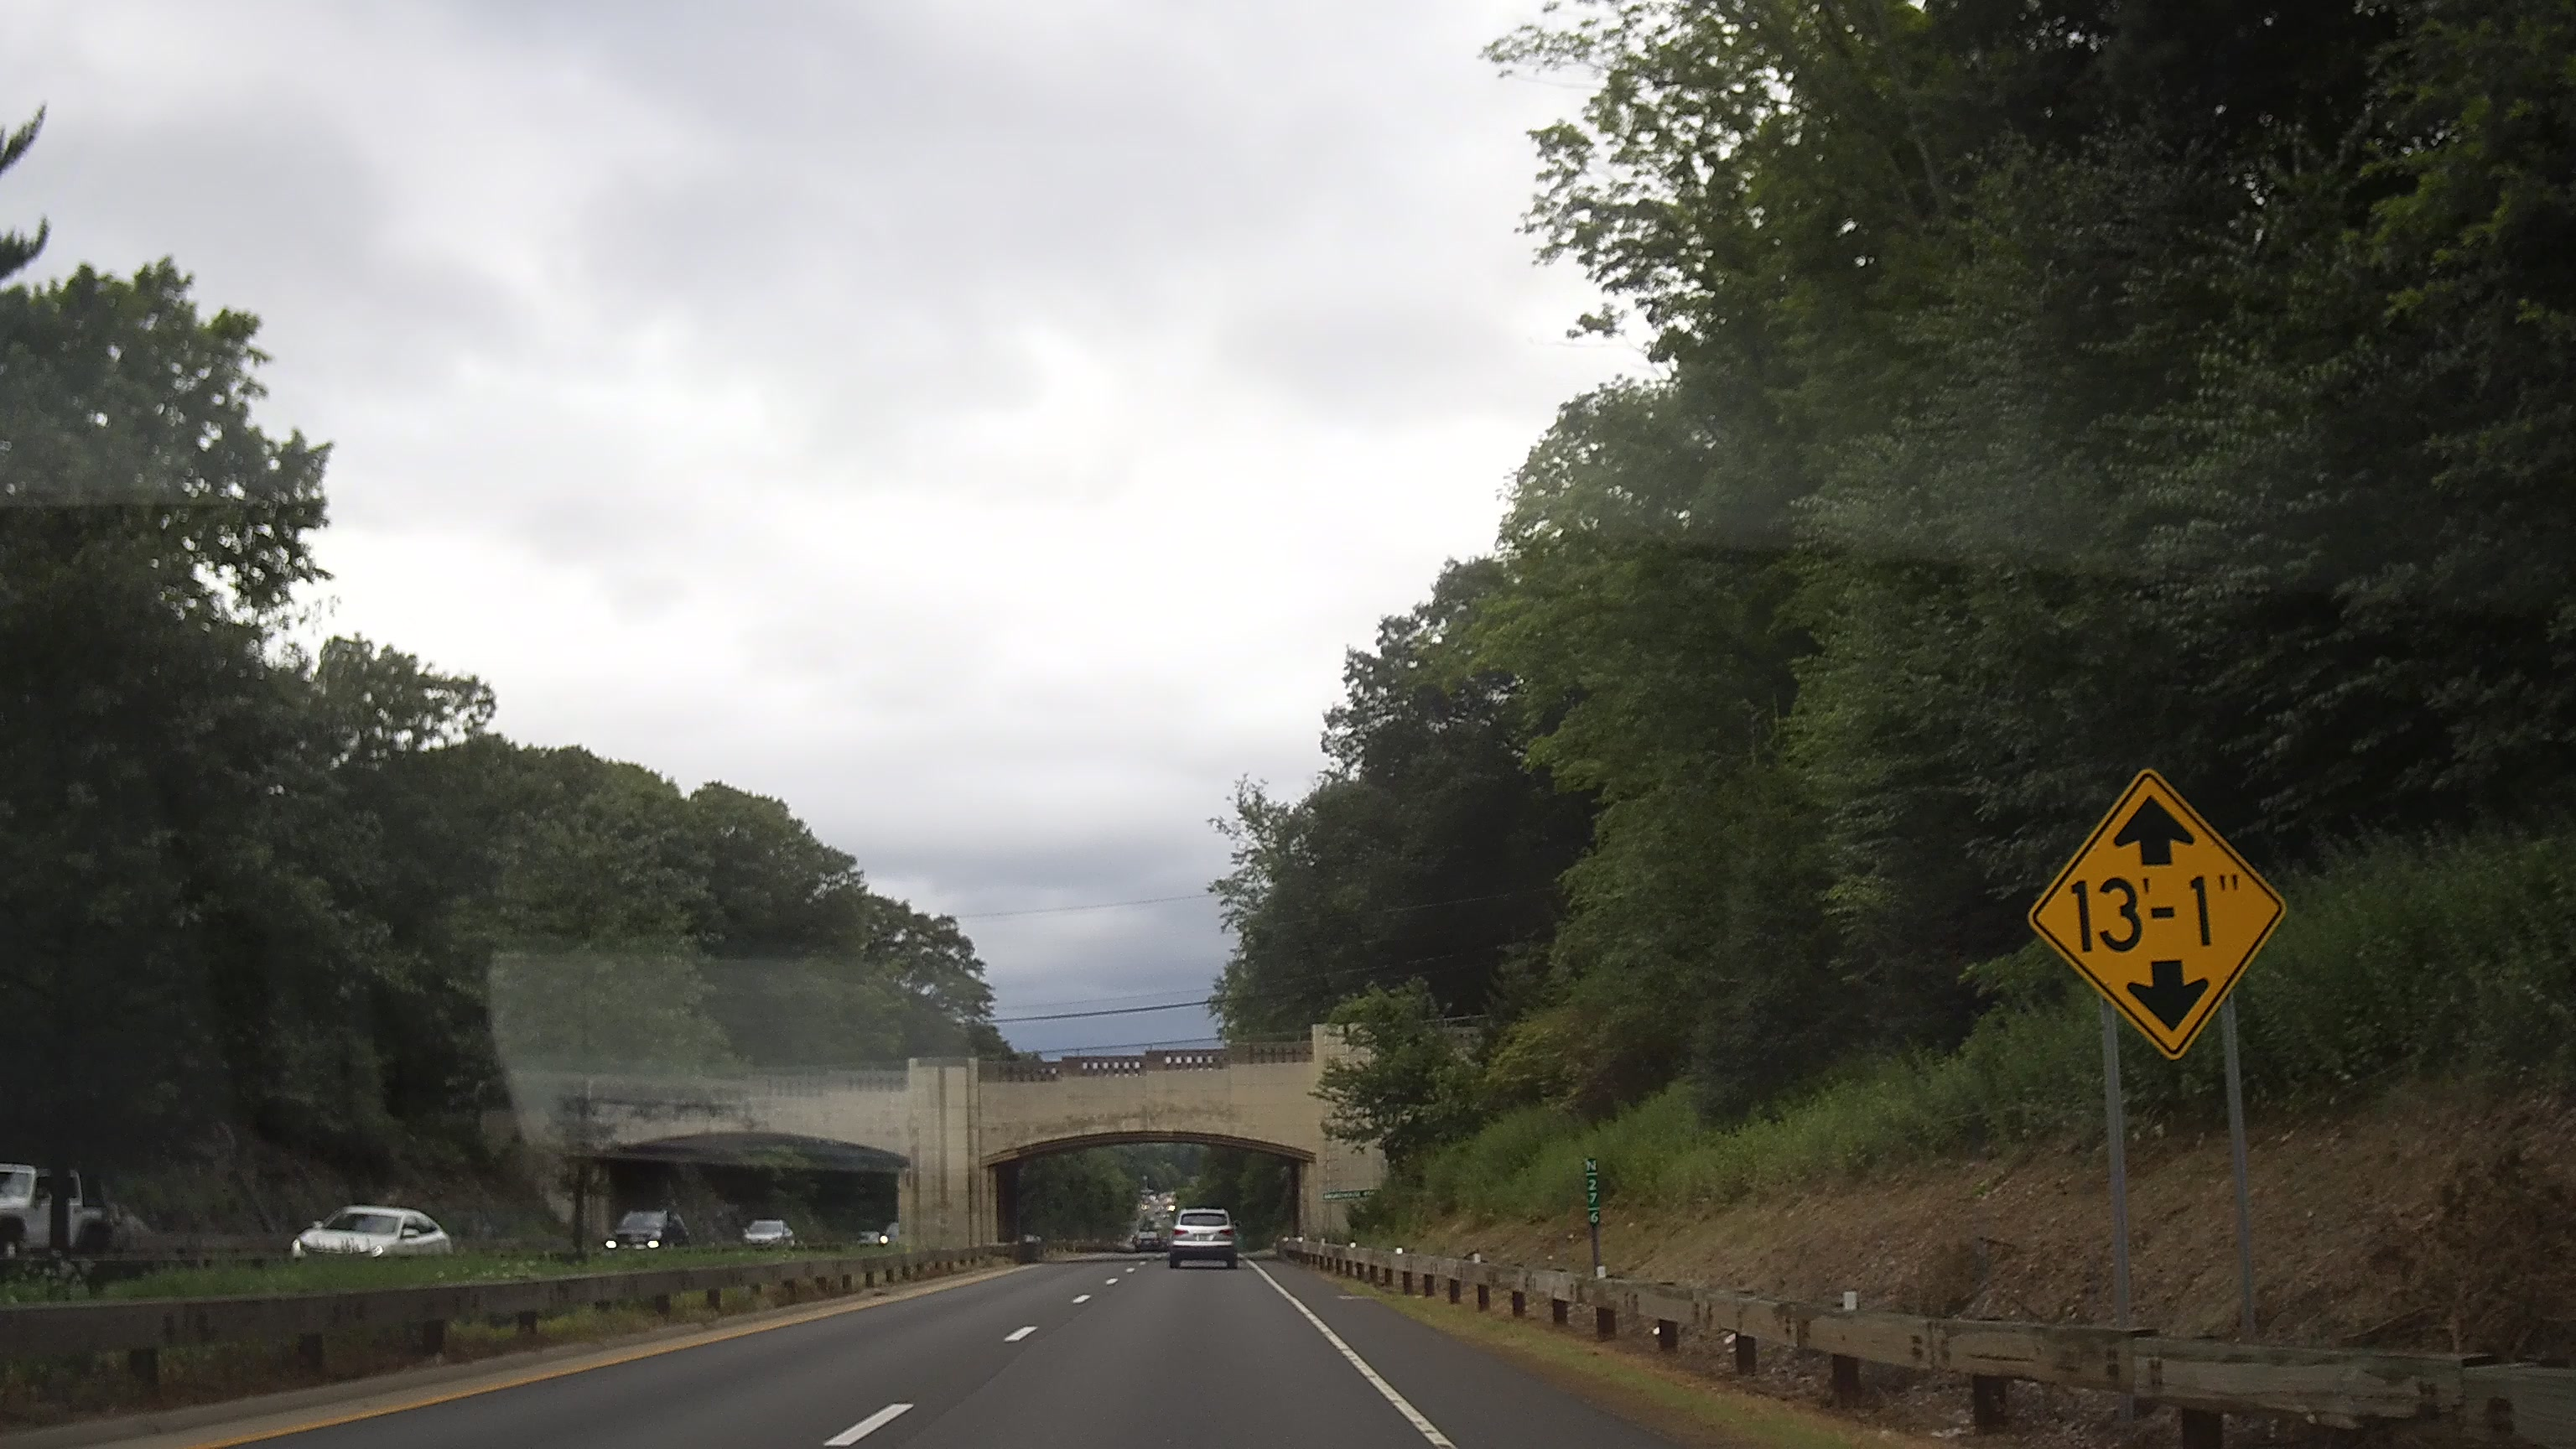low-clearance-sign: (2028, 768, 2288, 1062)
